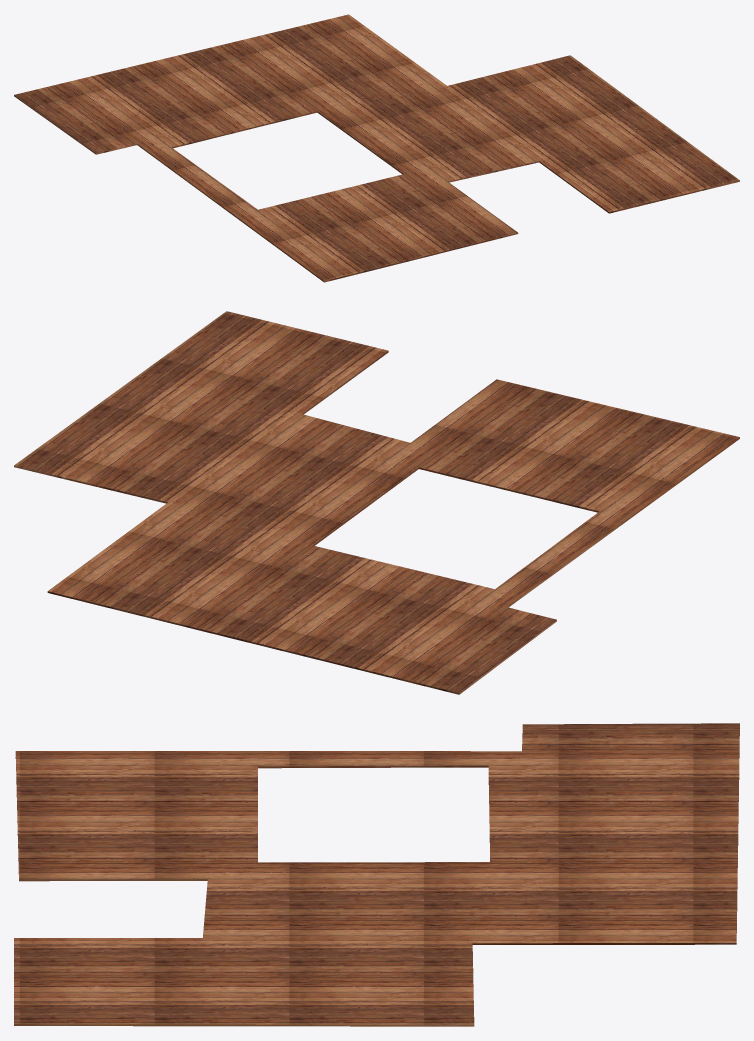
Rendered from piso.gltf.
The picture shows the model from 3 angles, top to bottom: view 1: azimuth 30°, elevation 25°; view 2: azimuth 150°, elevation 25°; view 3: azimuth 270°, elevation 25°; orthographic projection. The views are drawn at different scales.
Visible parts, largest first — view 1: Plane; view 2: Plane; view 3: Plane.
Boxes of the visible parts, x1,y1,x2,y2 form: Plane: (14, 14, 739, 282); Plane: (14, 311, 739, 694); Plane: (14, 723, 739, 1026).
Bounding box in the file's own units: 77.71 × 0.2231 × 79.07.
1 material, 1 textured.
